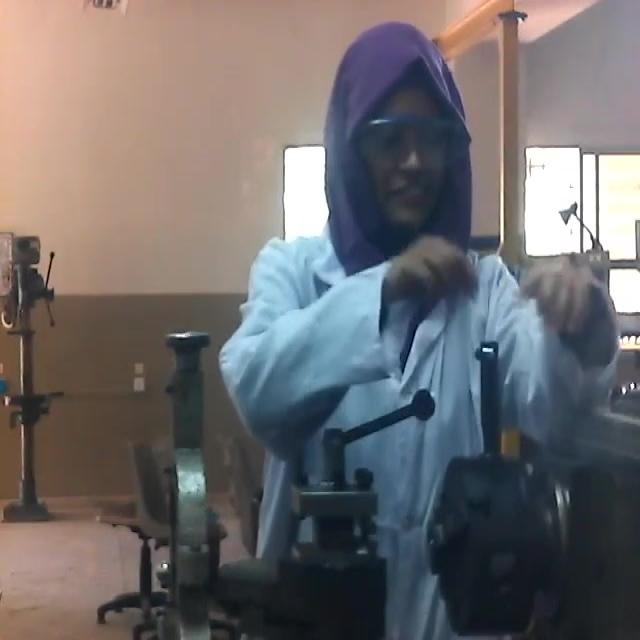googles: (360, 111, 460, 172)
labcoat: (217, 216, 621, 640)
